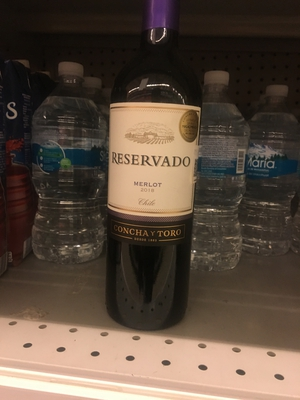reservado merlot: (98, 14, 215, 329)
